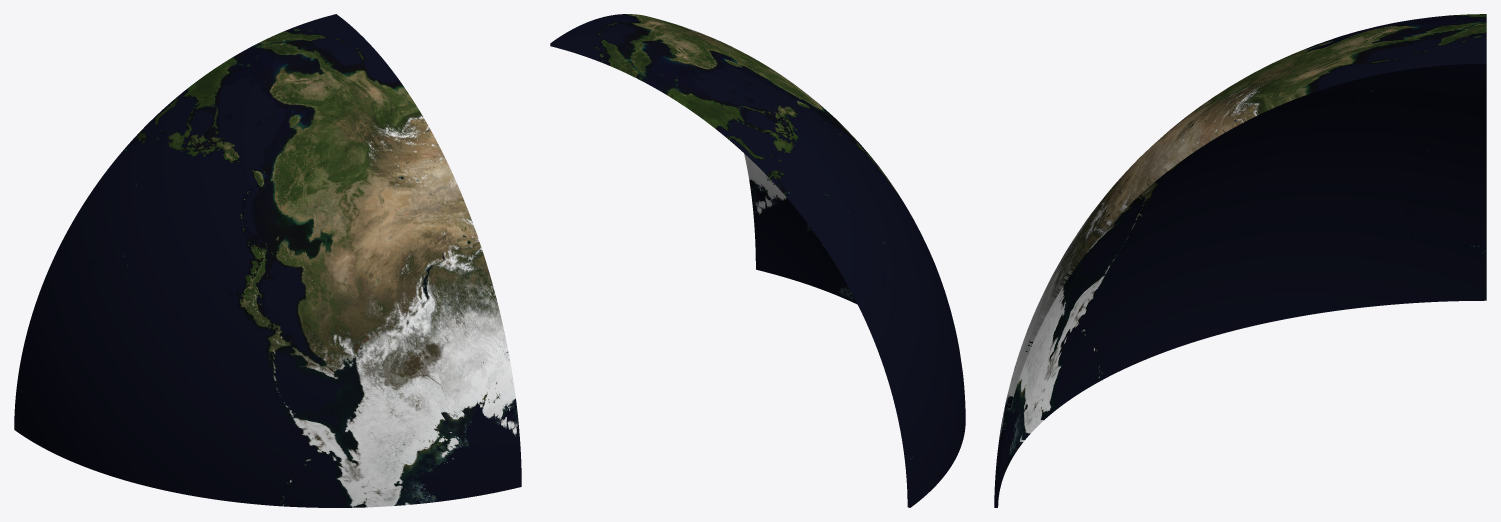
3 views of the same model, side by side, from view 1: azimuth 30°, elevation 25°; view 2: azimuth 150°, elevation 25°; view 3: azimuth 270°, elevation 25° (orthographic). The views are drawn at different scales.
Parts seen in each view (by area): view 1: DefaultName.005, DefaultName.007, DefaultName.003, DefaultName.001; view 2: DefaultName.005, DefaultName.007, DefaultName.001, DefaultName.003; view 3: DefaultName.005, DefaultName.003, DefaultName.007, DefaultName.001.
Boxes of the visible parts, <box> form: DefaultName.005: <box>14,168,305,502</box>; DefaultName.007: <box>108,14,466,316</box>; DefaultName.003: <box>239,318,521,507</box>; DefaultName.001: <box>306,208,521,486</box>; DefaultName.005: <box>803,165,965,507</box>; DefaultName.007: <box>550,14,877,216</box>; DefaultName.001: <box>744,153,809,269</box>; DefaultName.003: <box>756,226,857,304</box>; DefaultName.005: <box>1139,63,1486,360</box>; DefaultName.003: <box>998,194,1141,505</box>; DefaultName.007: <box>1139,14,1486,192</box>; DefaultName.001: <box>994,158,1141,507</box>.
Bounding box in the file's own units: 63781 × 63781 × 63568.
Materials: 4 (4 with a texture image).
